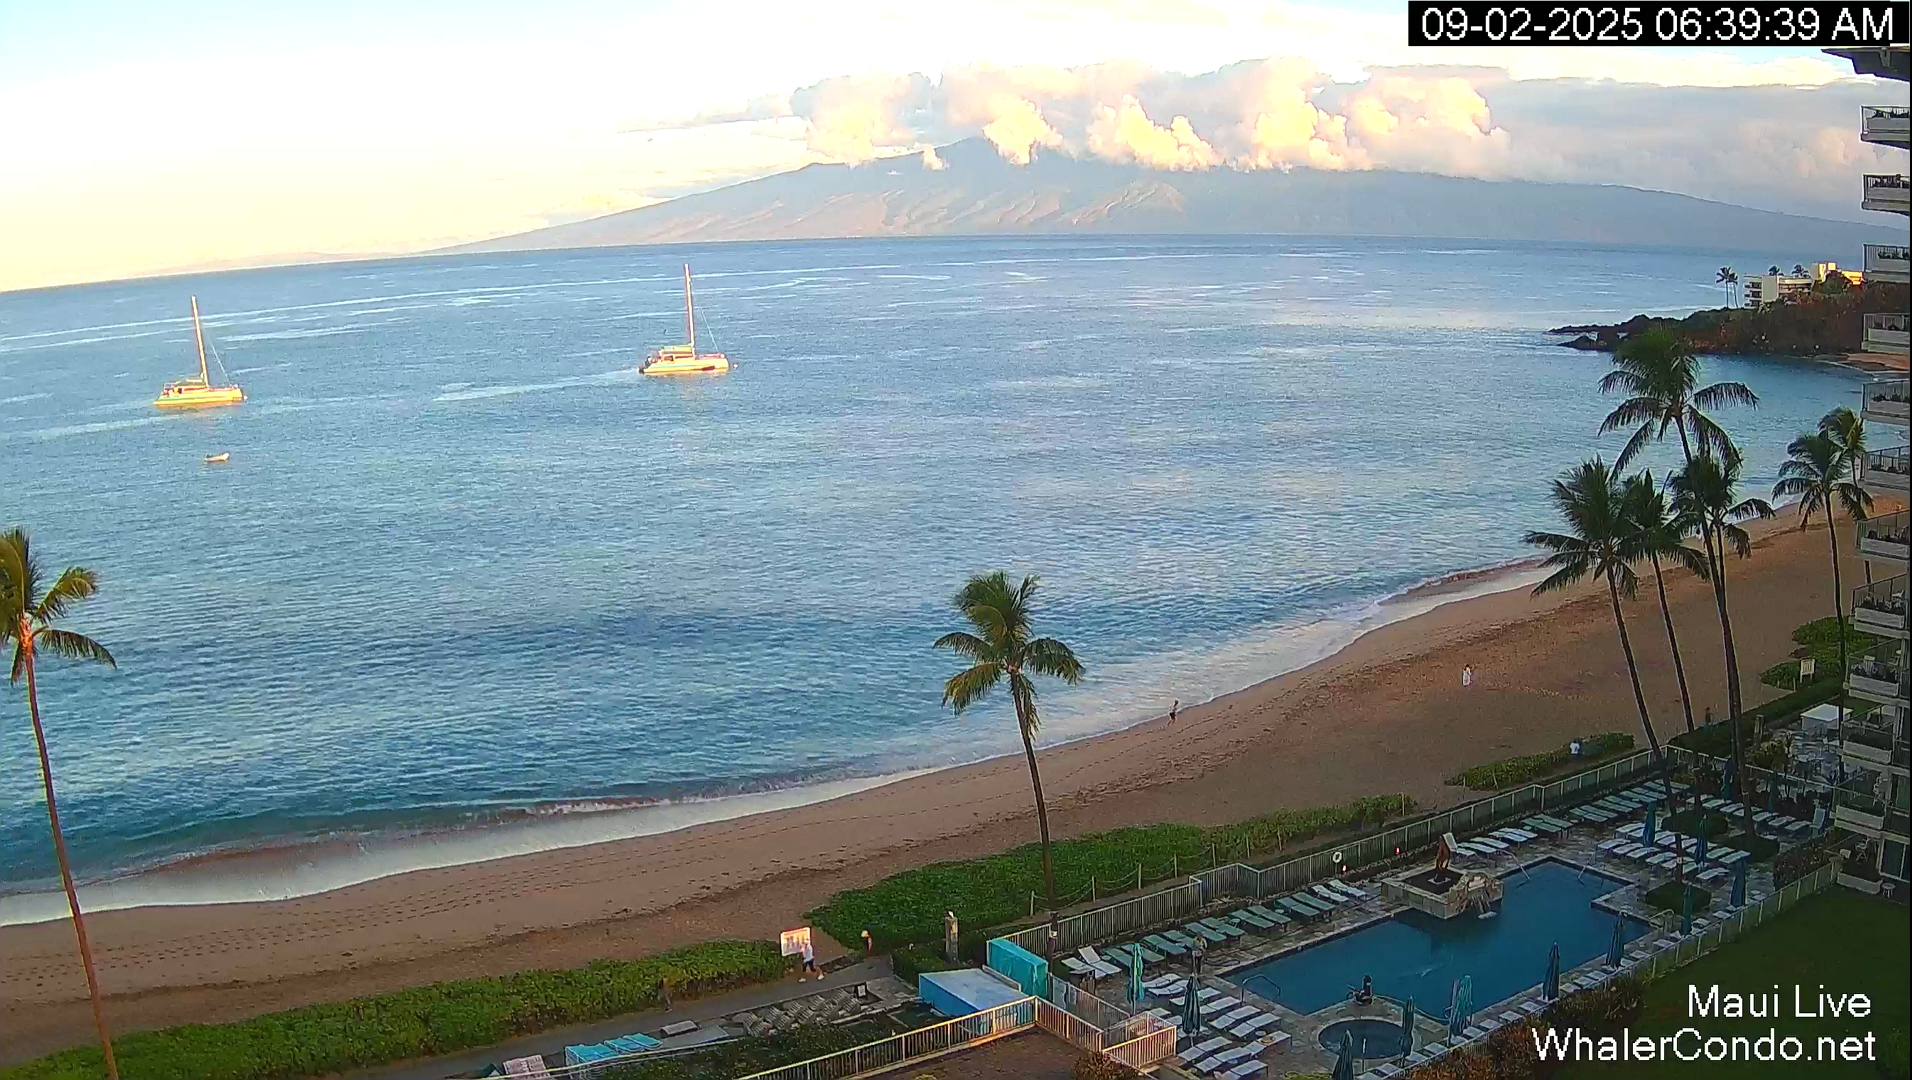boat: (638, 262, 732, 376), (153, 294, 245, 410), (481, 1032, 640, 1079)
person: (660, 974, 673, 1012), (802, 940, 816, 973), (1167, 699, 1180, 725), (1462, 664, 1472, 687)
surfboard: (430, 366, 640, 405)
